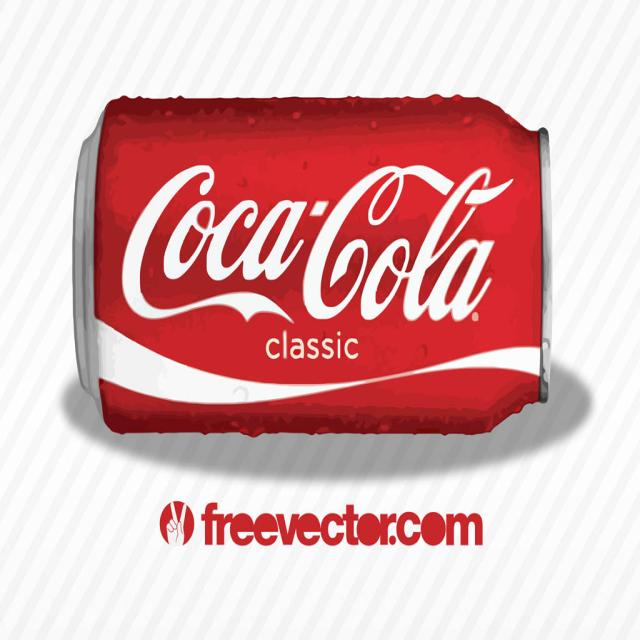cocacola: (67, 80, 558, 453)
